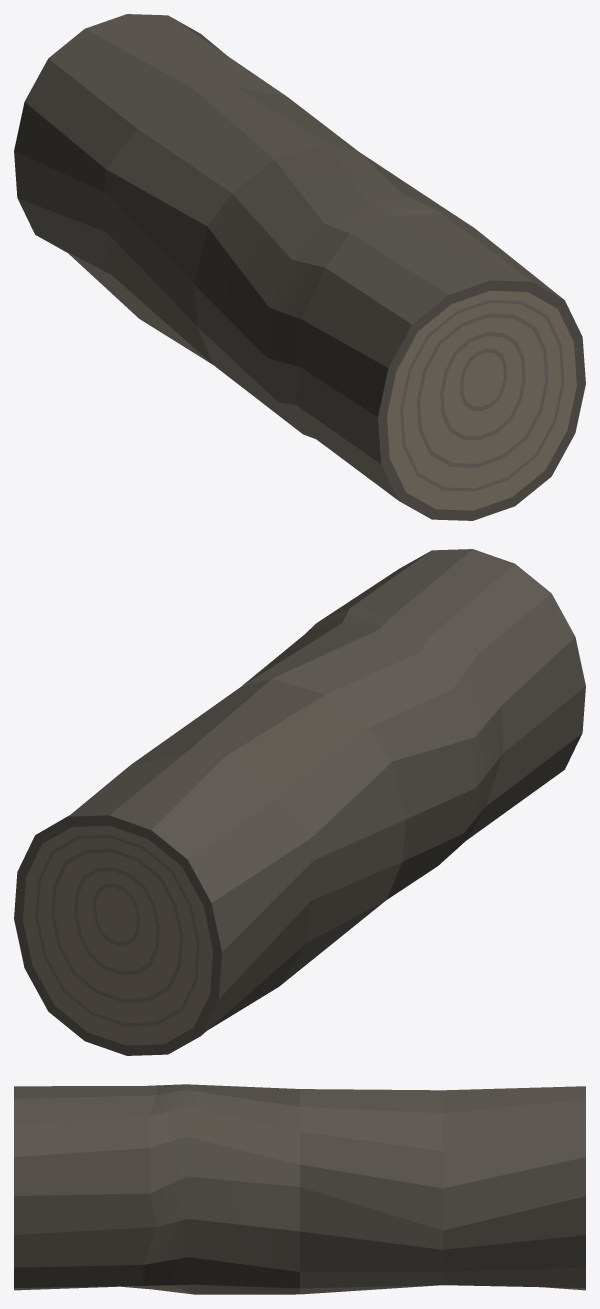
The model's file is skill_Log.fbx.
3 views of the same model, one above another, from view 1: azimuth 30°, elevation 25°; view 2: azimuth 150°, elevation 25°; view 3: azimuth 270°, elevation 25° (orthographic). The views are drawn at different scales.
Parts seen in each view (by area): view 1: Skill_Log; view 2: Skill_Log; view 3: Skill_Log.
Part boxes in pixels (left/top/right/bottom): Skill_Log: left=14, top=14, right=585, bottom=520; Skill_Log: left=14, top=549, right=585, bottom=1055; Skill_Log: left=14, top=1084, right=585, bottom=1294.
Size of the model in its own units: 40.1 by 44.94 by 118.
